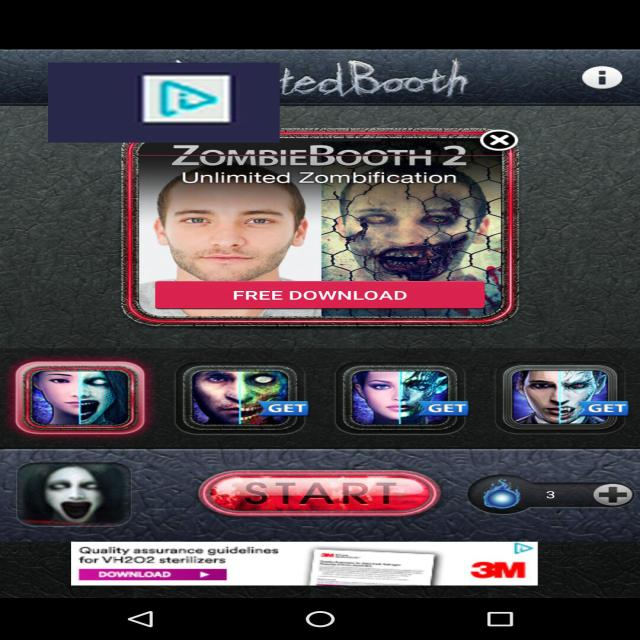sneaking: (48, 62, 280, 142)
